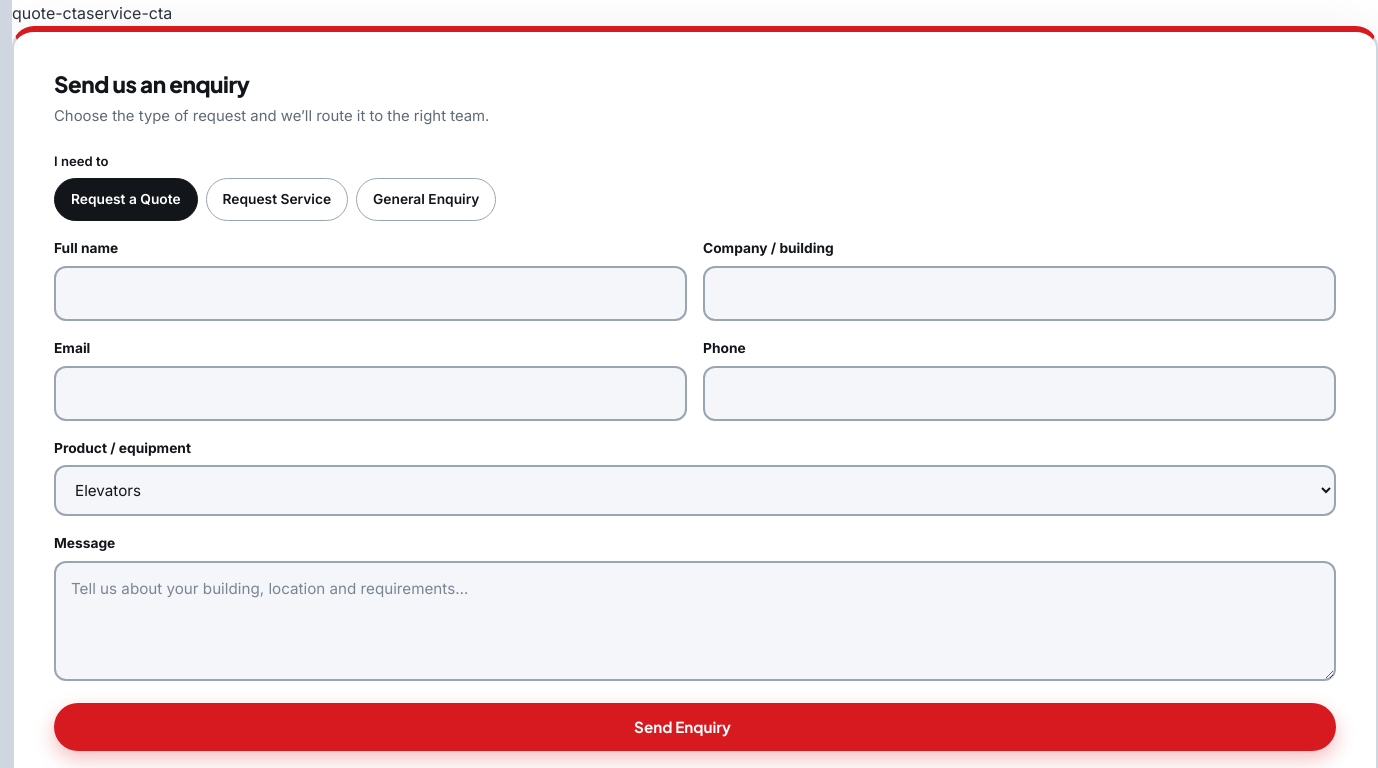
EnquiryForm › shows the success message when submitted with valid data
Step 1. Type "Sara Ahmad" into the field labelled "Full name" → x=370, y=293, box [54, 266, 687, 321]
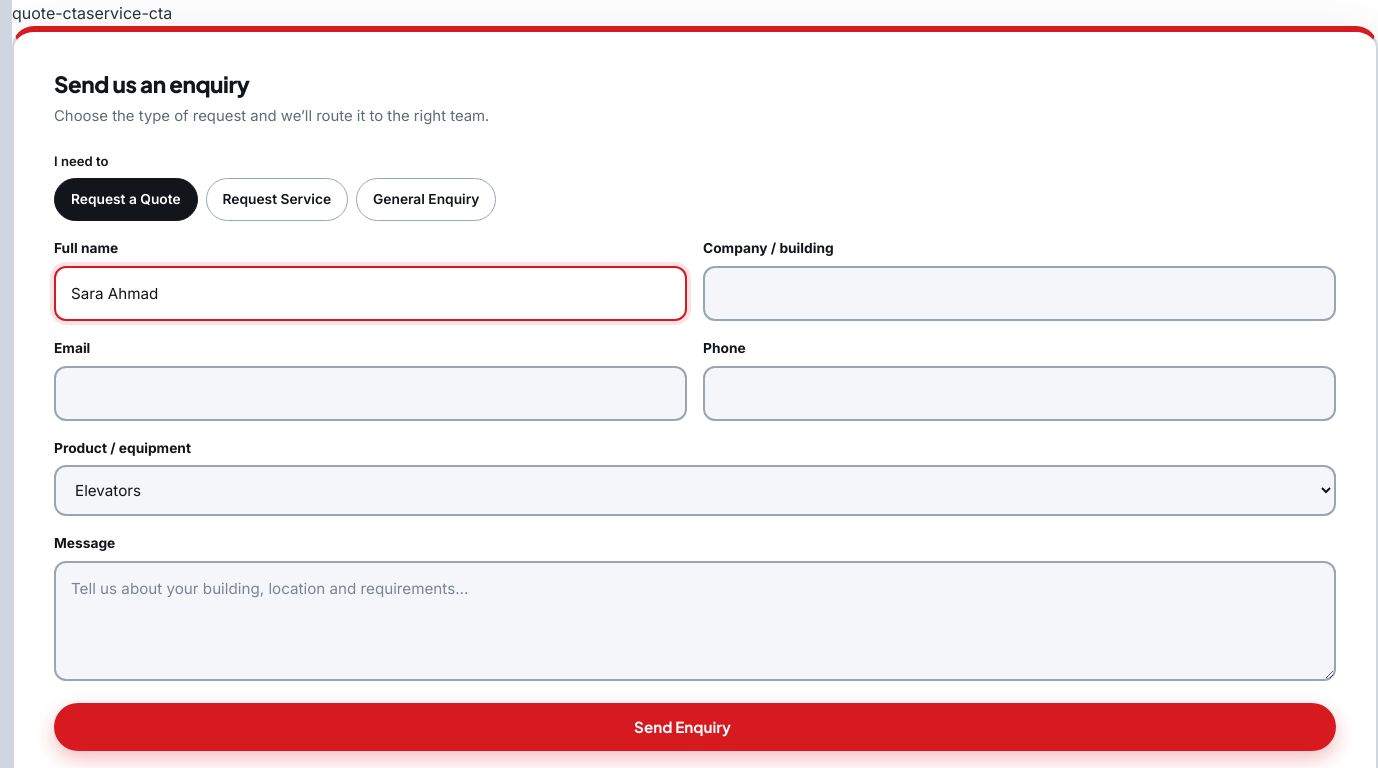
Step 2. Type "sara@example.com" into the field labelled "Email" → x=370, y=393, box [54, 366, 687, 420]
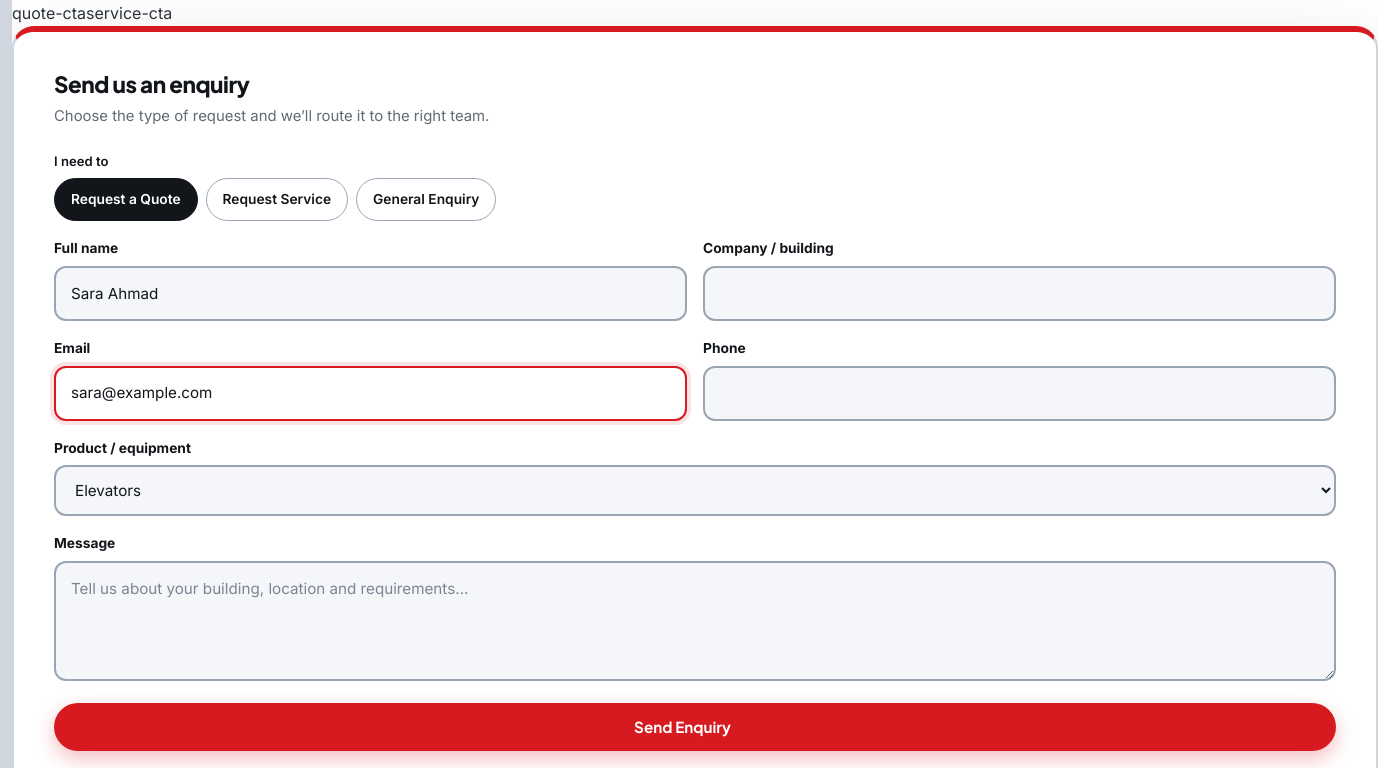
Step 3. Click the button "Send Enquiry" → x=695, y=727, box [54, 703, 1336, 751]
(page scrolled)
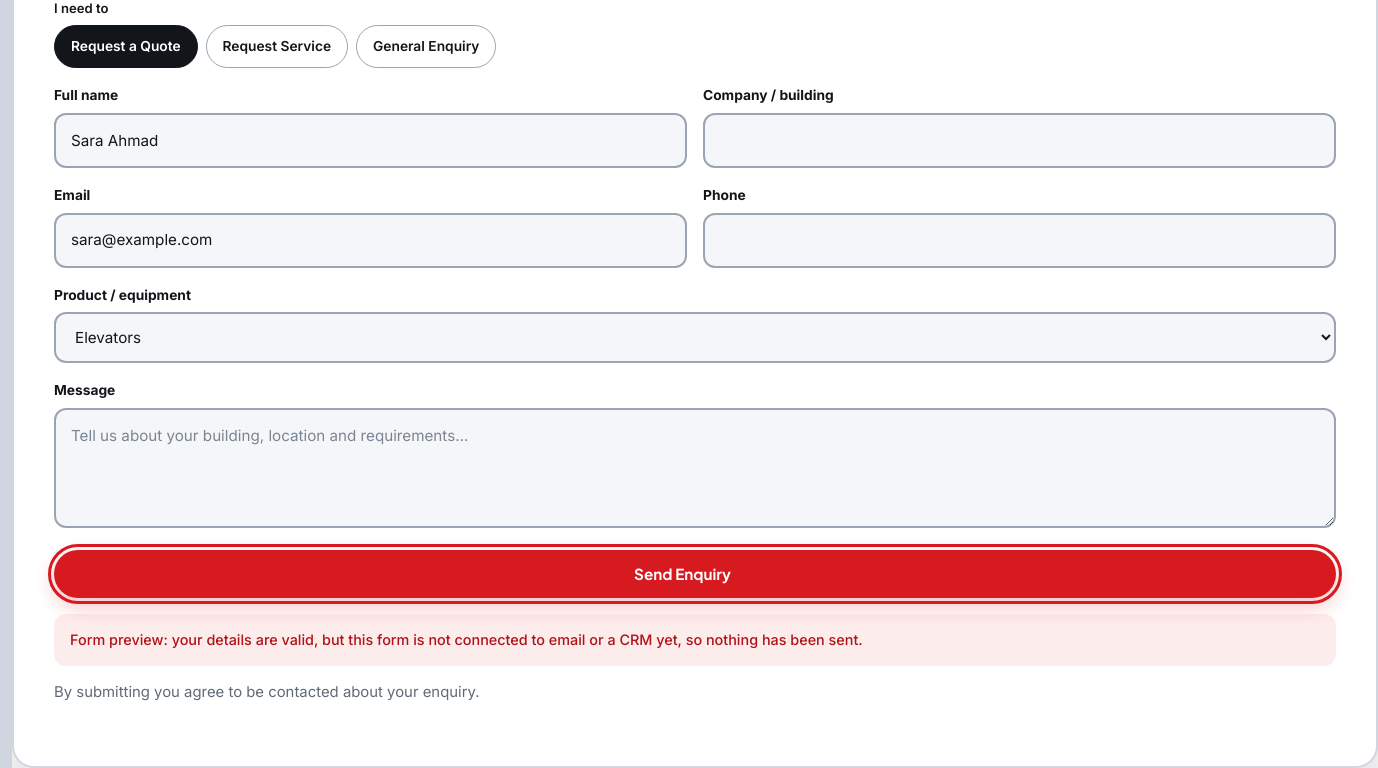
Now the message shows "Form preview: your details are valid, but this form is not connected to email or a CRM yet, so nothing has been sent.", box [70, 631, 863, 648]
